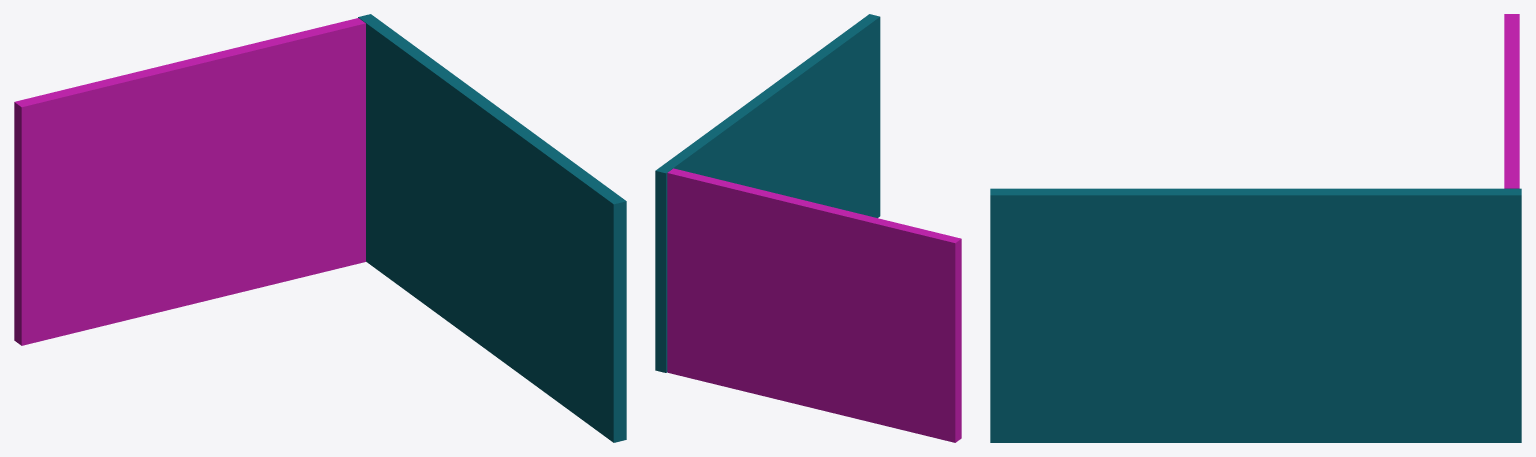
Rendered from Sm_Murs.fbx.
The picture shows the model from 3 angles, left to right: view 1: azimuth 30°, elevation 25°; view 2: azimuth 150°, elevation 25°; view 3: azimuth 270°, elevation 25°; orthographic projection. The views are drawn at different scales.
Parts seen in each view (by area): view 1: Sm_Mur_01, Sm_Mur_00; view 2: Sm_Mur_01, Sm_Mur_00; view 3: Sm_Mur_00, Sm_Mur_01.
Boxes of the visible parts, x1,y1,x2,y2 form: Sm_Mur_01: [14, 18, 365, 345]; Sm_Mur_00: [358, 14, 626, 442]; Sm_Mur_01: [667, 168, 961, 442]; Sm_Mur_00: [655, 14, 880, 372]; Sm_Mur_00: [990, 188, 1521, 442]; Sm_Mur_01: [1504, 14, 1519, 188].
Bounding box in the file's own units: 831 × 1030 × 530.
